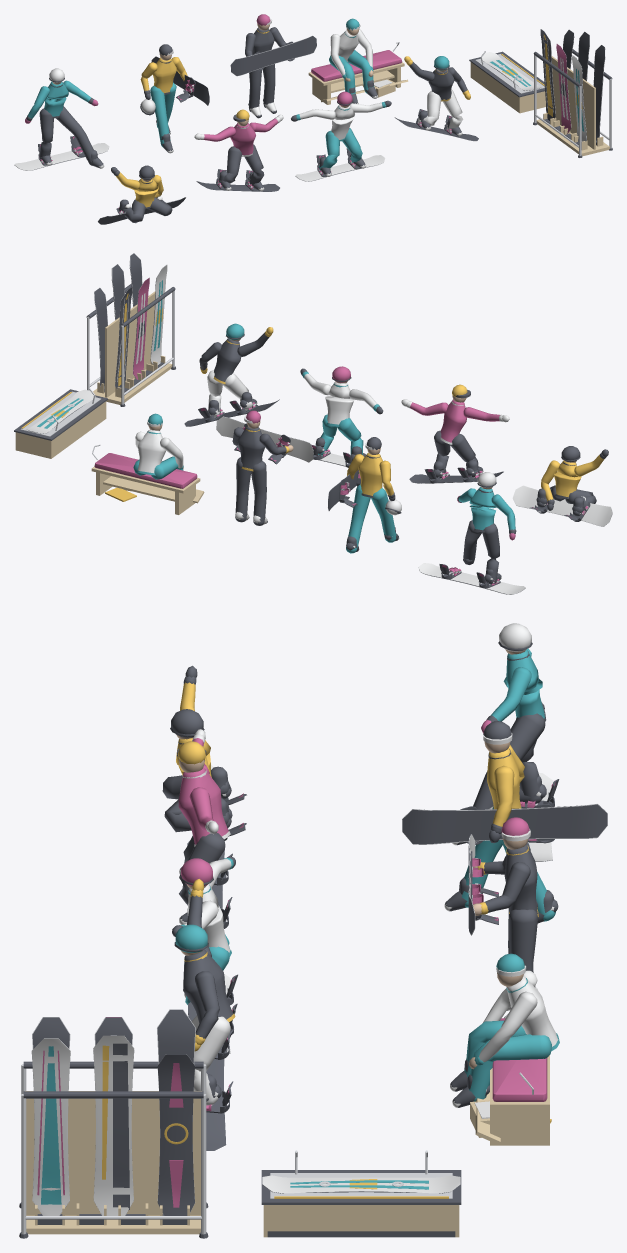
File: snowboard-gear-and-freestyle-riders-rider-lineup-7b24cc00__27192.glb
The picture shows the model from 3 angles, top to bottom: view 1: azimuth 30°, elevation 25°; view 2: azimuth 150°, elevation 25°; view 3: azimuth 270°, elevation 25°; orthographic projection. The views are drawn at different scales.
Visible parts, largest first — view 1: 006-shop-assistant-presenting-board/0, 011-floor-board-rack-stocked/1, 011-floor-board-rack-stocked/2, 004-rider-skating-one-foot-out/1, 002-rider-boardslide-pose/2, 001-rider-tail-press/1, 003-rider-ollie-pop/1, 000-rider-method-grab/1, 007-fitting-bench/0, 009-display-podium/0, 008-customer-boot-fitting/0, 011-floor-board-rack-stocked/0 (+18 smaller); view 2: 011-floor-board-rack-stocked/1, 006-shop-assistant-presenting-board/0, 011-floor-board-rack-stocked/2, 003-rider-ollie-pop/1, 007-fitting-bench/0, 001-rider-tail-press/1, 004-rider-skating-one-foot-out/1, 009-display-podium/0, 002-rider-boardslide-pose/2, 001-rider-tail-press/2, 011-floor-board-rack-stocked/0, 000-rider-method-grab/1 (+19 smaller); view 3: 011-floor-board-rack-stocked/1, 011-floor-board-rack-stocked/2, 011-floor-board-rack-stocked/3, 005-rider-walking-with-board/1, 009-display-podium/0, 003-rider-ollie-pop/1, 006-shop-assistant-presenting-board/0, 008-customer-boot-fitting/0, 009-display-podium/1, 011-floor-board-rack-stocked/0, 008-customer-boot-fitting/1, 007-fitting-bench/0 (+17 smaller).
Part boxes in pixels (bbox=[...]): 006-shop-assistant-presenting-board/0: bbox=[230, 27, 316, 118]; 011-floor-board-rack-stocked/1: bbox=[533, 29, 612, 157]; 011-floor-board-rack-stocked/2: bbox=[536, 56, 609, 156]; 004-rider-skating-one-foot-out/1: bbox=[16, 78, 103, 170]; 002-rider-boardslide-pose/2: bbox=[295, 102, 385, 181]; 001-rider-tail-press/1: bbox=[196, 114, 279, 191]; 003-rider-ollie-pop/1: bbox=[395, 62, 478, 140]; 000-rider-method-grab/1: bbox=[98, 165, 185, 224]; 007-fitting-bench/0: bbox=[308, 62, 408, 104]; 009-display-podium/0: bbox=[470, 62, 545, 113]; 008-customer-boot-fitting/0: bbox=[330, 24, 392, 103]; 011-floor-board-rack-stocked/0: bbox=[534, 30, 611, 155]; 011-floor-board-rack-stocked/1: bbox=[86, 253, 175, 406]; 006-shop-assistant-presenting-board/0: bbox=[232, 420, 313, 525]; 011-floor-board-rack-stocked/2: bbox=[93, 291, 172, 404]; 003-rider-ollie-pop/1: bbox=[184, 332, 279, 426]; 007-fitting-bench/0: bbox=[91, 466, 204, 514]; 001-rider-tail-press/1: bbox=[409, 389, 503, 483]; 004-rider-skating-one-foot-out/1: bbox=[421, 482, 525, 594]; 009-display-podium/0: bbox=[15, 401, 106, 458]; 002-rider-boardslide-pose/2: bbox=[304, 373, 377, 465]; 001-rider-tail-press/2: bbox=[410, 399, 499, 479]; 011-floor-board-rack-stocked/0: bbox=[87, 253, 174, 404]; 000-rider-method-grab/1: bbox=[529, 446, 612, 524]; 011-floor-board-rack-stocked/1: bbox=[19, 1009, 208, 1238]; 011-floor-board-rack-stocked/2: bbox=[25, 1091, 201, 1234]; 011-floor-board-rack-stocked/3: bbox=[31, 1017, 134, 1215]; 005-rider-walking-with-board/1: bbox=[402, 721, 607, 923]; 009-display-podium/0: bbox=[263, 1205, 459, 1237]; 003-rider-ollie-pop/1: bbox=[174, 895, 233, 1150]; 006-shop-assistant-presenting-board/0: bbox=[468, 834, 537, 987]; 008-customer-boot-fitting/0: bbox=[450, 965, 558, 1118]; 009-display-podium/1: bbox=[261, 1170, 461, 1237]; 011-floor-board-rack-stocked/0: bbox=[21, 1010, 206, 1234]; 008-customer-boot-fitting/1: bbox=[464, 953, 559, 1101]; 007-fitting-bench/0: bbox=[475, 1055, 549, 1145].
Bounding box in the file's own units: 8.31 × 1.7 × 4.52.
